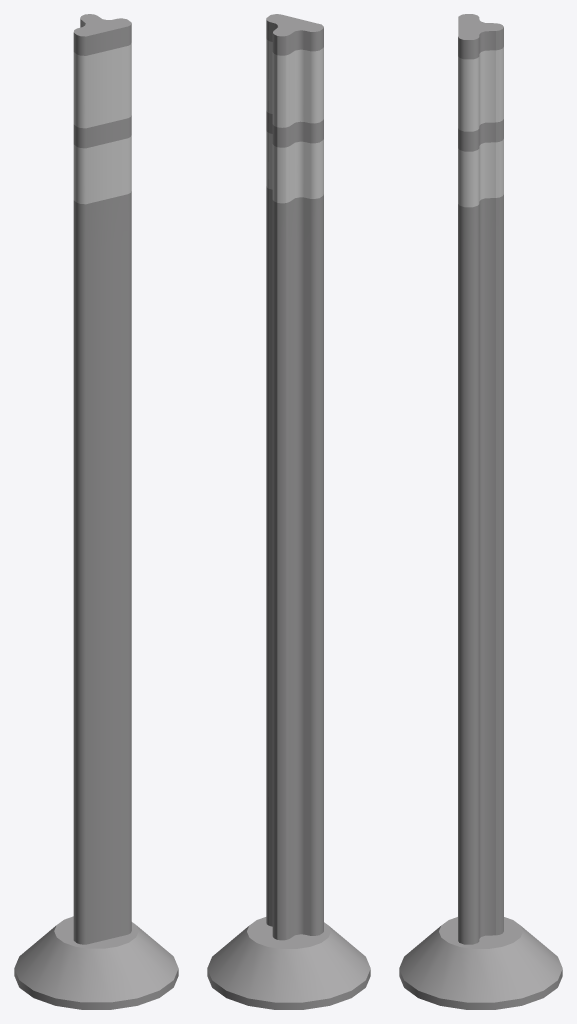
The model's file is dividers-safehit.glb.
3 views of the same model, side by side, from view 1: azimuth 30°, elevation 25°; view 2: azimuth 150°, elevation 25°; view 3: azimuth 270°, elevation 25° (orthographic).
Visible parts, largest first — view 1: safehit; view 2: safehit; view 3: safehit.
Boxes of the visible parts, <box> form: safehit: <box>14,14,178,1009</box>; safehit: <box>207,14,370,1009</box>; safehit: <box>399,14,562,1009</box>.
Size of the model in its own units: 0.1972 by 1.28 by 0.2002.
Materials: 1 (1 with a texture image).
